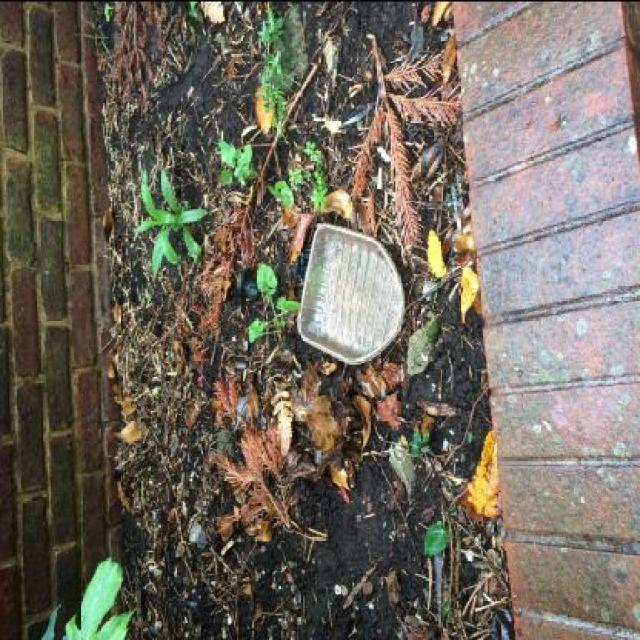plastic: (298, 222, 405, 363)
